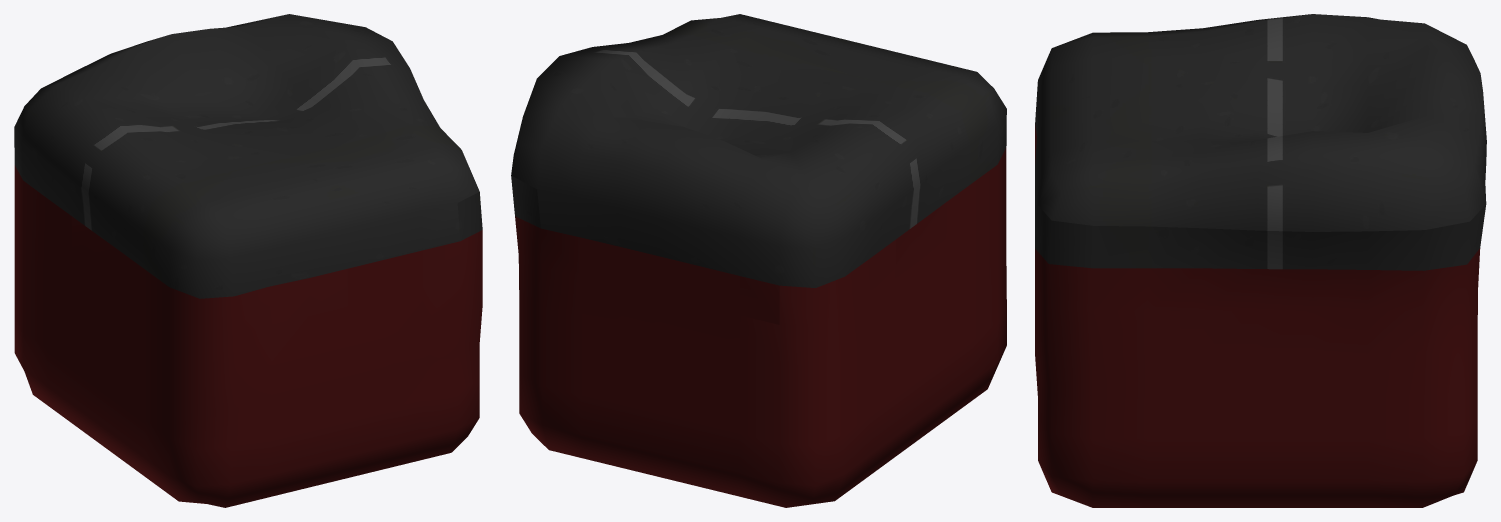
File: RuinedGround_Block_03.fbx
3 views of the same model, side by side, from view 1: azimuth 30°, elevation 25°; view 2: azimuth 150°, elevation 25°; view 3: azimuth 270°, elevation 25° (orthographic). The views are drawn at different scales.
Visible parts, largest first — view 1: Box011; view 2: Box011; view 3: Box011.
Boxes of the visible parts, x1,y1,x2,y2 form: Box011: (14, 14, 482, 507); Box011: (511, 14, 1006, 507); Box011: (1035, 14, 1486, 507).
Bounding box in the file's own units: 21.48 × 21.04 × 22.83.
